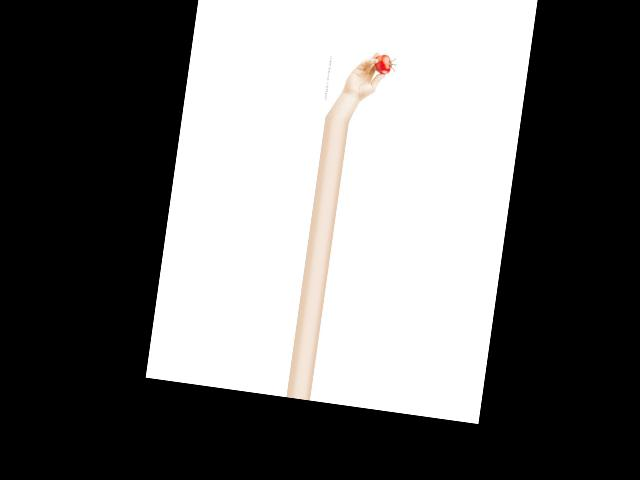tomato: (372, 53, 392, 75)
